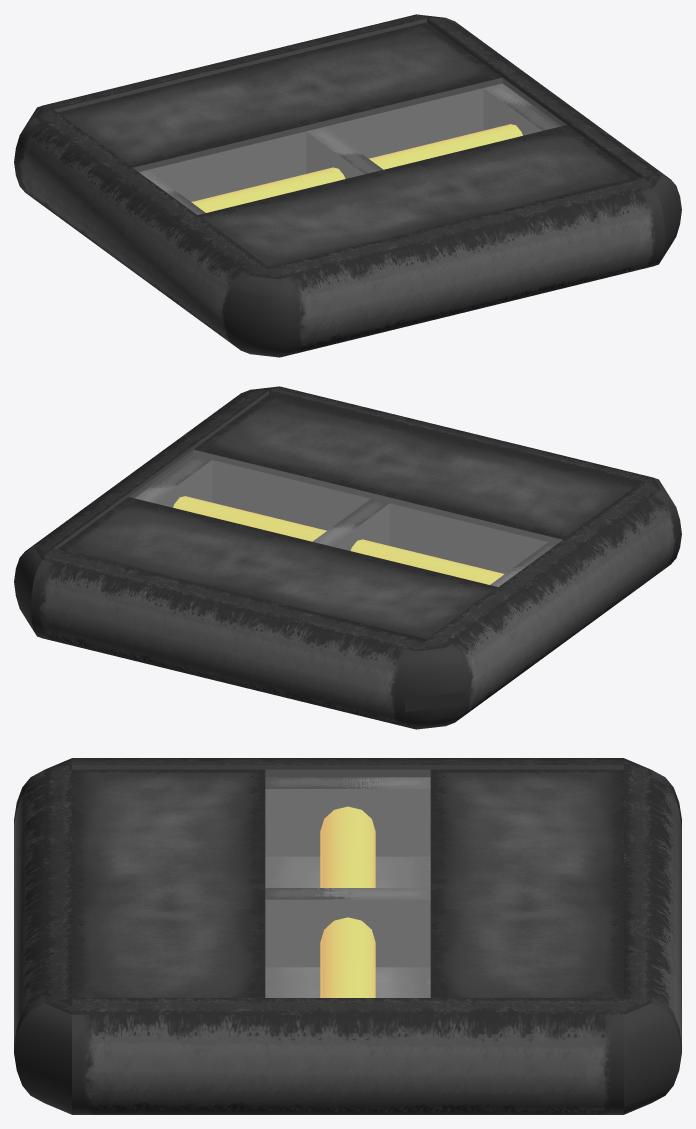
File: platfrom12x12_closed.fbx
The picture shows the model from 3 angles, top to bottom: view 1: azimuth 30°, elevation 25°; view 2: azimuth 150°, elevation 25°; view 3: azimuth 270°, elevation 25°; orthographic projection. The views are drawn at different scales.
Parts seen in each view (by area): view 1: Cube, Cube.004, Cylinder, Cube.001, Cube.003, Cube.002; view 2: Cube, Cube.004, Cylinder, Cube.001, Cube.003, Cube.002; view 3: Cube, Cube.004, Cube.002, Cube.003, Cylinder.
Boxes of the visible parts, x1,y1,x2,y2 form: Cube: (14,14,681,357); Cube.004: (134,78,566,214); Cylinder: (191,124,522,212); Cube.001: (483,83,560,135); Cube.003: (306,127,383,178); Cube.002: (139,170,205,214); Cube: (14,386,681,729); Cube.004: (129,450,562,586); Cylinder: (173,496,504,584); Cube.001: (135,455,212,507); Cube.003: (313,499,389,550); Cube.002: (490,542,556,586); Cube: (14,758,681,1114); Cube.004: (265,770,430,997); Cube.002: (265,777,430,856); Cube.003: (265,888,430,967); Cylinder: (320,806,375,997).
Bounding box in the file's own units: 2420 × 440 × 2420.
